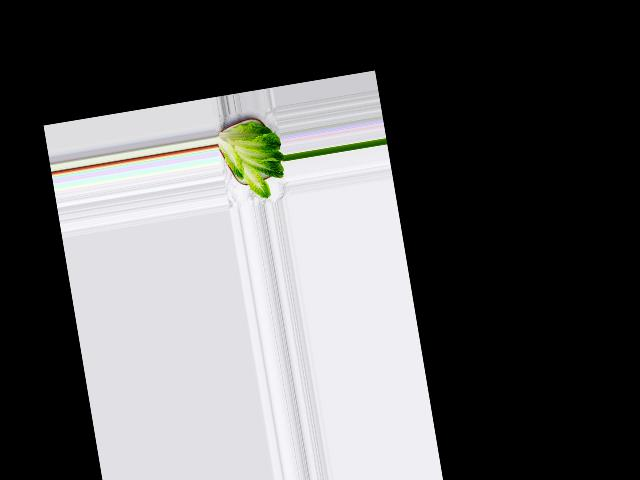lettuce: (216, 113, 291, 205)
